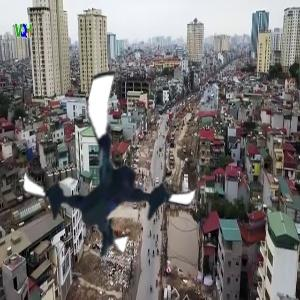drone: (17, 71, 210, 264)
